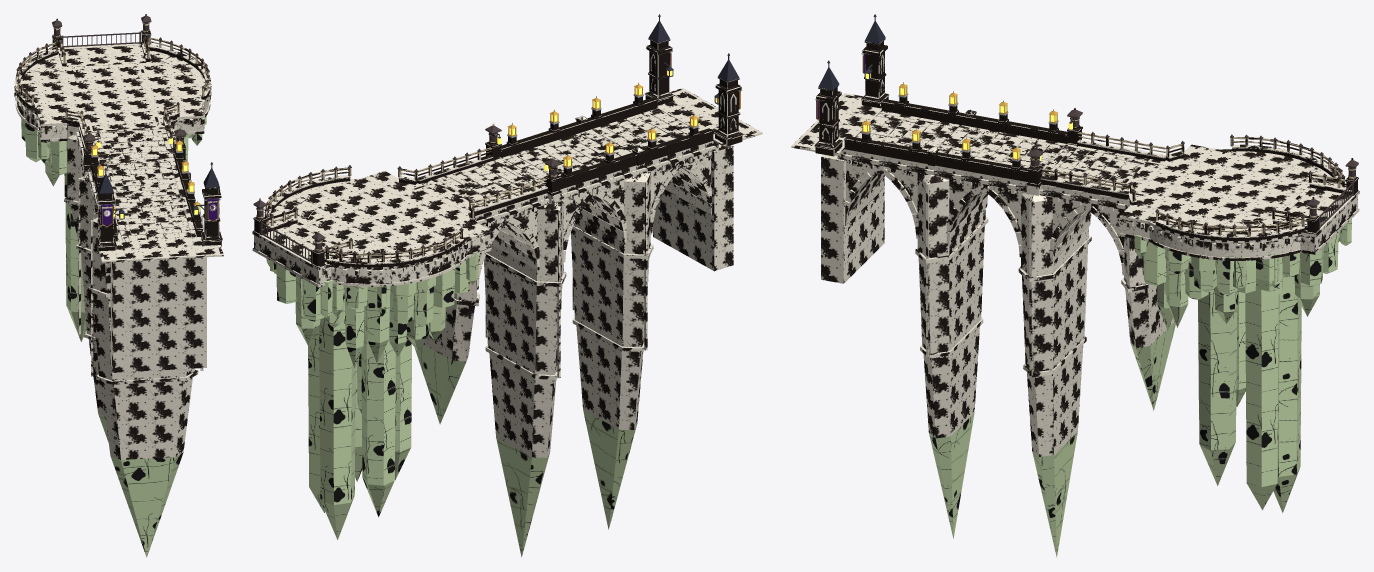
Rendered from ILHA3_08_NEXT_ISLAND_4ec5f0.fbx.
3 renders of one model, left to right at view 1: azimuth 30°, elevation 25°; view 2: azimuth 150°, elevation 25°; view 3: azimuth 270°, elevation 25°, orthographic. The views are drawn at different scales.
Parts seen in each view (by area): view 1: SG_Exit_Bridge__Stone_SG_Block, SG_Exit_Bridge__Stone_Paving_SG, SG_Exit_Bridge__Cliff_Rock_SG_Dark, SG_Exit_Bridge__Stone_SG_Trim, SG_Exit_Head__Stone_Paving_SG, SG_Exit_Rails__Stone_SG_Trim, SG_Exit_Rails__Wood_Lacquer_Red, SG_Exit_Head__Stone_SG_Trim, SG_Exit_Rails__P_DS_Black, SG_Exit_Head__Stone_SG_Castle_B, SG_Exit_Bridge__Stone_SG_Floor, SG_Exit_Rails__Stone_SG_Block (+6 smaller); view 2: SG_Exit_Bridge__Stone_SG_Block, SG_Exit_Bridge__Cliff_Rock_SG_Dark, SG_Exit_Bridge__Stone_Paving_SG, SG_Exit_Bridge__Stone_SG_Trim, SG_Exit_Rails__Stone_SG_Trim, SG_Exit_Rails__Wood_Lacquer_Red, SG_Exit_Rails__Stone_SG_Block, SG_Exit_Bridge__Cliff_Rock_SG, SG_Exit_Rails__Stone_SG_Block_B, SG_Exit_Head__Stone_SG_Castle_B, SG_Exit_Head__Stone_Paving_SG, SG_Exit_Head__Stone_SG_Trim (+3 smaller); view 3: SG_Exit_Bridge__Stone_SG_Block, SG_Exit_Bridge__Cliff_Rock_SG_Dark, SG_Exit_Bridge__Stone_Paving_SG, SG_Exit_Bridge__Stone_SG_Trim, SG_Exit_Rails__Stone_SG_Trim, SG_Exit_Bridge__Cliff_Rock_SG, SG_Exit_Rails__Wood_Lacquer_Red, SG_Exit_Rails__Stone_SG_Block, SG_Exit_Rails__Stone_SG_Block_B, SG_Exit_Head__Stone_SG_Castle_B, SG_Exit_Head__Stone_Paving_SG, SG_Exit_Head__Stone_SG_Trim (+3 smaller).
Part boxes in pixels (x1,y1,x2,y2): SG_Exit_Bridge__Stone_SG_Block: (17,99,208,459); SG_Exit_Bridge__Stone_Paving_SG: (20,43,205,240); SG_Exit_Bridge__Cliff_Rock_SG_Dark: (21,116,206,557); SG_Exit_Bridge__Stone_SG_Trim: (14,43,211,384); SG_Exit_Head__Stone_Paving_SG: (102,237,220,259); SG_Exit_Rails__Stone_SG_Trim: (14,30,211,234); SG_Exit_Rails__Wood_Lacquer_Red: (16,14,209,151); SG_Exit_Head__Stone_SG_Trim: (95,183,223,262); SG_Exit_Rails__P_DS_Black: (16,15,209,152); SG_Exit_Head__Stone_SG_Castle_B: (98,188,219,242); SG_Exit_Bridge__Stone_SG_Floor: (23,56,194,240); SG_Exit_Rails__Stone_SG_Block: (15,43,210,236); SG_Exit_Bridge__Stone_SG_Block: (254,141,733,457); SG_Exit_Bridge__Cliff_Rock_SG_Dark: (266,251,636,557); SG_Exit_Bridge__Stone_Paving_SG: (252,110,689,267); SG_Exit_Bridge__Stone_SG_Trim: (252,108,716,379); SG_Exit_Rails__Stone_SG_Trim: (253,97,713,267); SG_Exit_Rails__Wood_Lacquer_Red: (256,123,557,262); SG_Exit_Rails__Stone_SG_Block: (262,101,657,268); SG_Exit_Bridge__Cliff_Rock_SG: (267,259,445,340); SG_Exit_Rails__Stone_SG_Block_B: (278,133,713,268); SG_Exit_Head__Stone_SG_Castle_B: (649,40,740,134); SG_Exit_Head__Stone_Paving_SG: (657,90,757,144); SG_Exit_Head__Stone_SG_Trim: (644,38,762,146); SG_Exit_Bridge__Stone_SG_Block: (821,149,1357,456); SG_Exit_Bridge__Cliff_Rock_SG_Dark: (929,219,1351,557); SG_Exit_Bridge__Stone_Paving_SG: (856,113,1349,240); SG_Exit_Bridge__Stone_SG_Trim: (841,111,1359,377); SG_Exit_Rails__Stone_SG_Trim: (844,99,1359,237); SG_Exit_Bridge__Cliff_Rock_SG: (1142,232,1338,299); SG_Exit_Rails__Wood_Lacquer_Red: (1030,108,1356,236); SG_Exit_Rails__Stone_SG_Block: (844,114,1337,242); SG_Exit_Rails__Stone_SG_Block_B: (881,104,1351,242); SG_Exit_Head__Stone_SG_Castle_B: (816,41,884,144); SG_Exit_Head__Stone_Paving_SG: (796,95,881,153); SG_Exit_Head__Stone_SG_Trim: (791,38,889,155).
Size of the model in its own units: 70.96 by 108 by 115.
11 materials, 3 textured.
